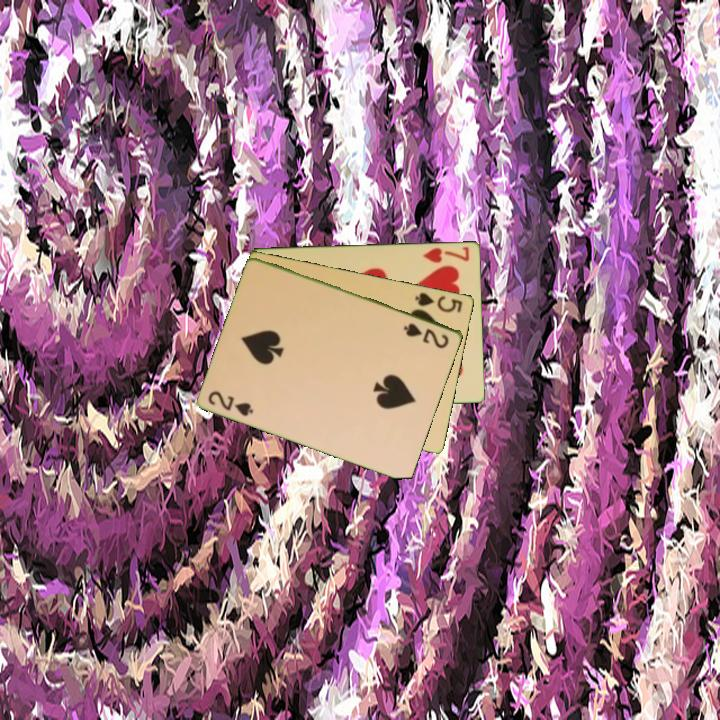2s: (400, 319, 452, 351), (205, 387, 256, 419)
5s: (412, 289, 466, 315)
7h: (420, 243, 473, 266)
